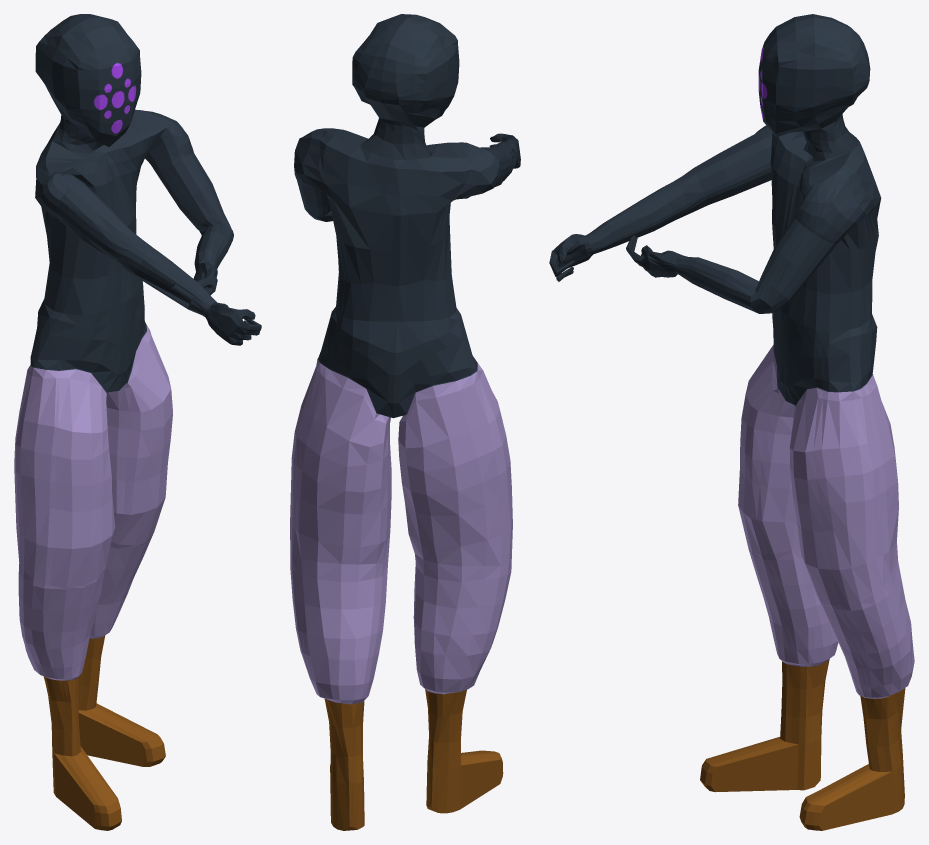
Rendered from Oracle_Attack_000006.obj.
3 views of the same model, side by side, from view 1: azimuth 30°, elevation 25°; view 2: azimuth 150°, elevation 25°; view 3: azimuth 270°, elevation 25° (orthographic). The views are drawn at different scales.
Parts seen in each view (by area): view 1: Cube; view 2: Cube; view 3: Cube.
Boxes of the visible parts, x1,y1,x2,y2 form: Cube: (14,14,261,830); Cube: (290,14,520,830); Cube: (549,14,914,830).
Bounding box in the file's own units: 1.07 × 3.94 × 1.66.
